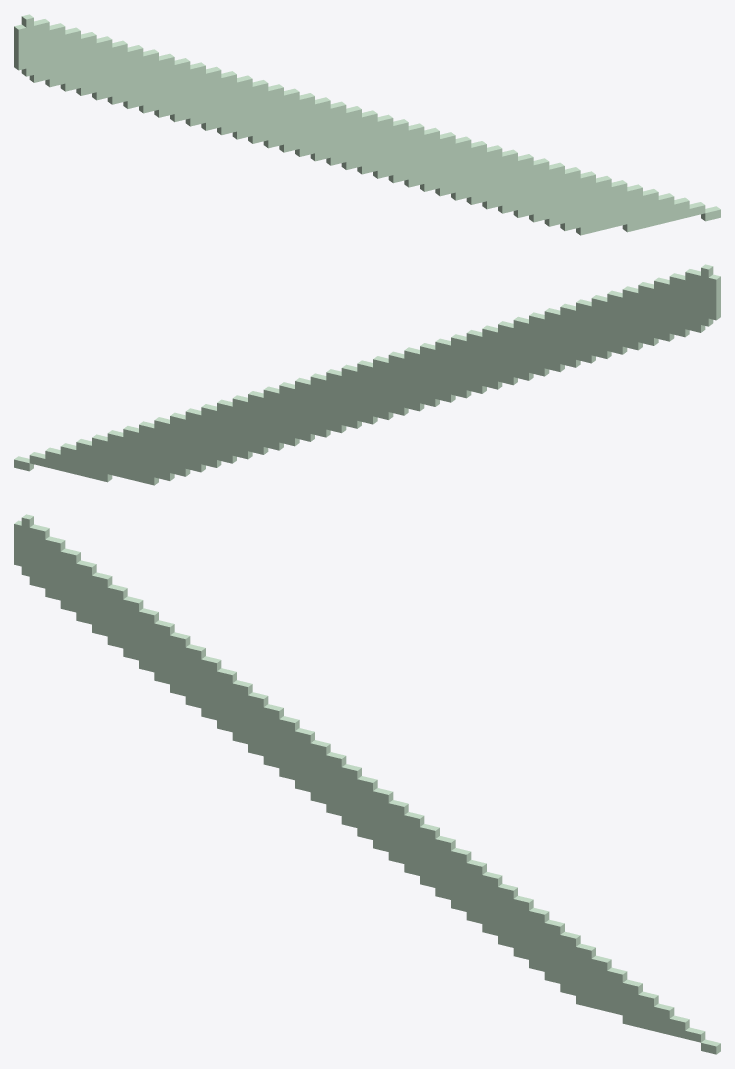
File: Fight_721_2_09_fx.obj
3 renders of one model, top to bottom at view 1: azimuth 30°, elevation 25°; view 2: azimuth 150°, elevation 25°; view 3: azimuth 330°, elevation 25°, orthographic.
Size of the model in its own units: 9 by 4.5 by 0.1.
1 material, 1 textured.
